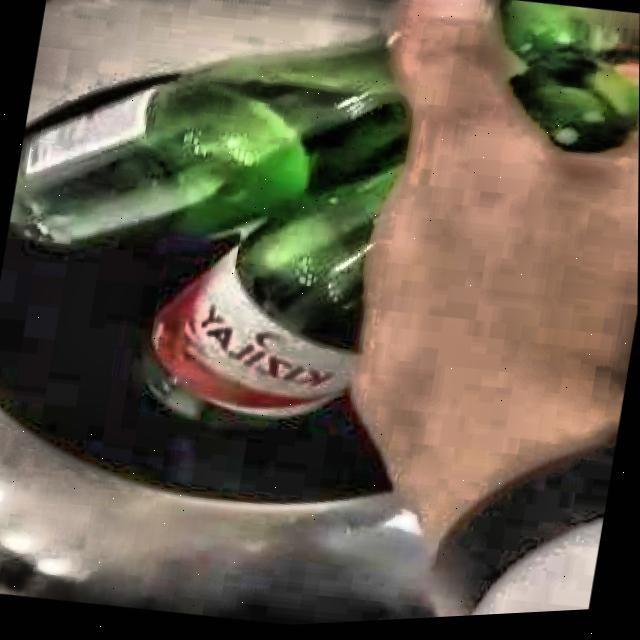glass: (10, 46, 412, 422), (498, 4, 639, 157)
